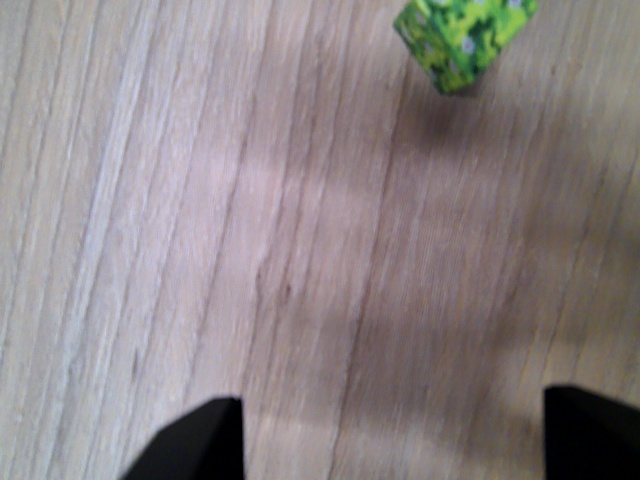grass: (391, 0, 541, 99)
